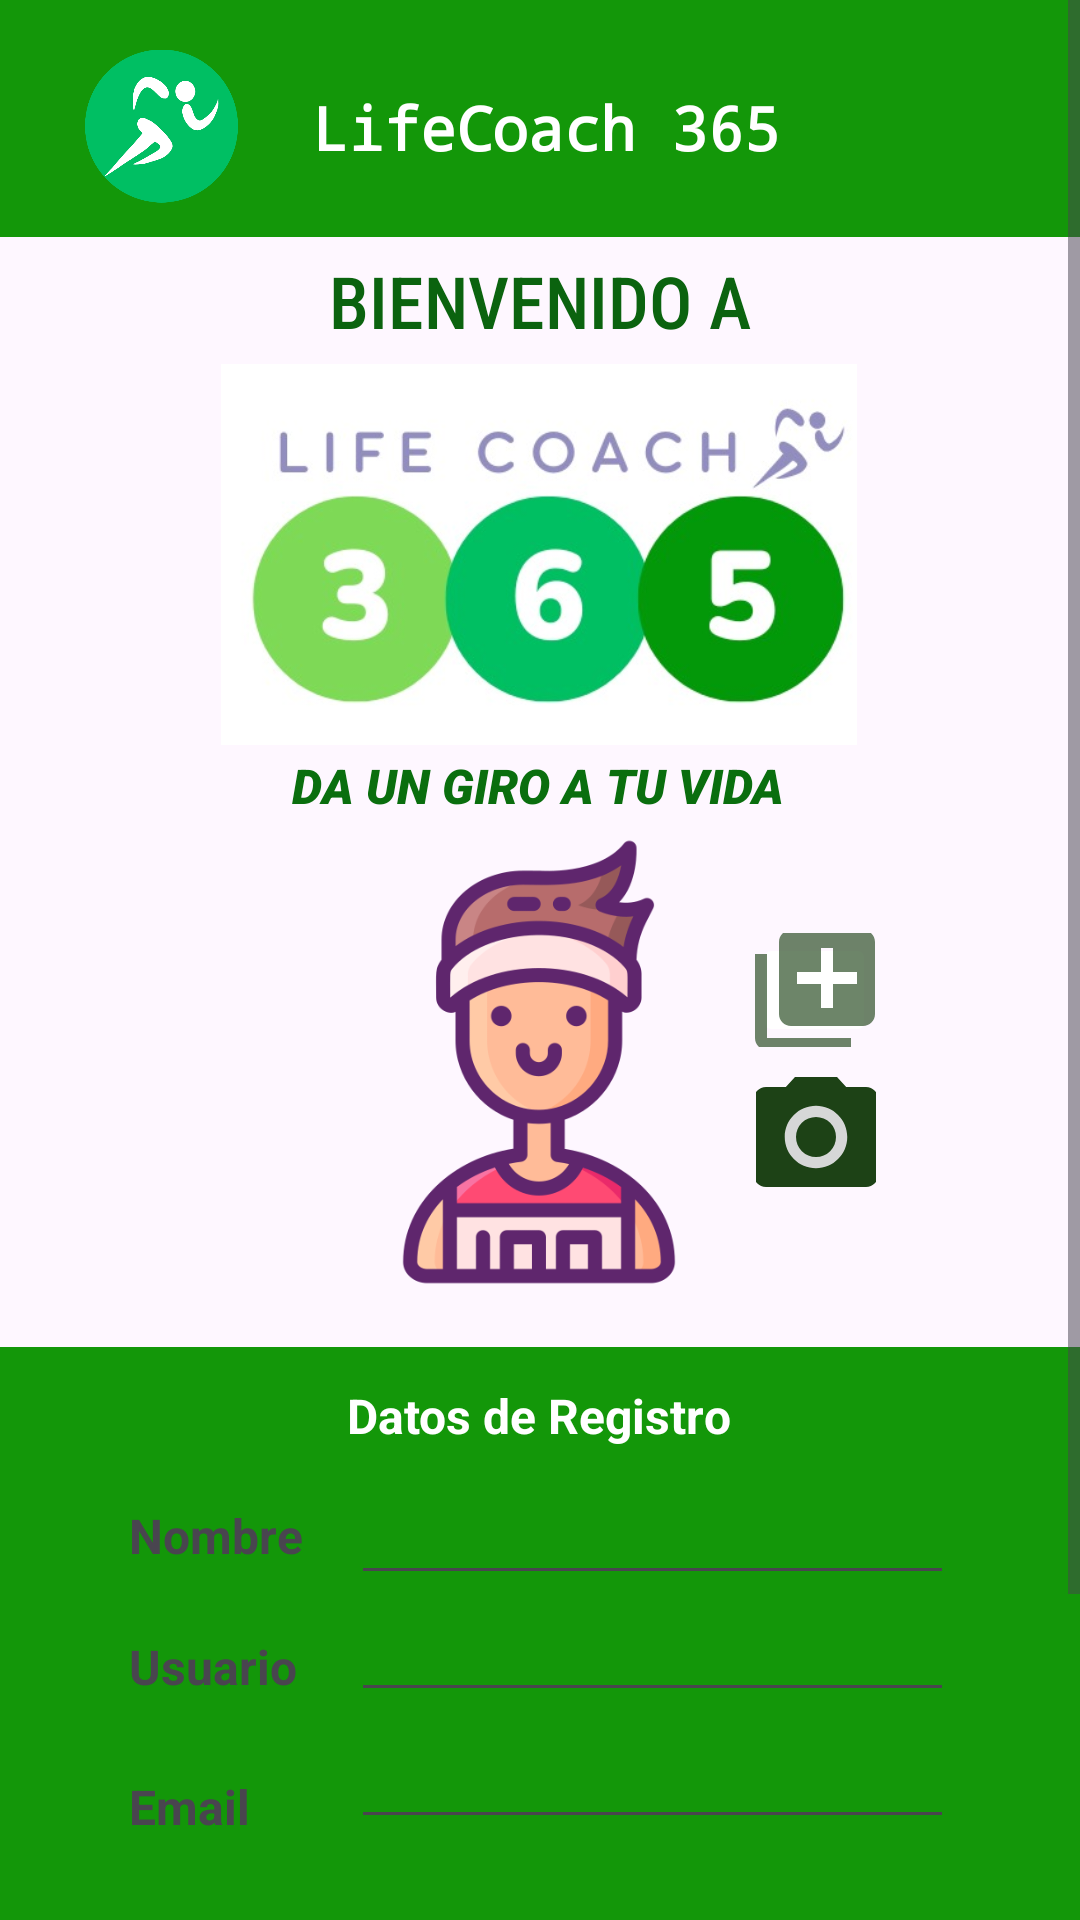

Named icons in this screenshot (1080px×1920px) and their bounding boxes, (x1, y1, x2, y2):
gallerydrawable: (755, 933, 875, 1047)
registercamera: (756, 1077, 876, 1187)
